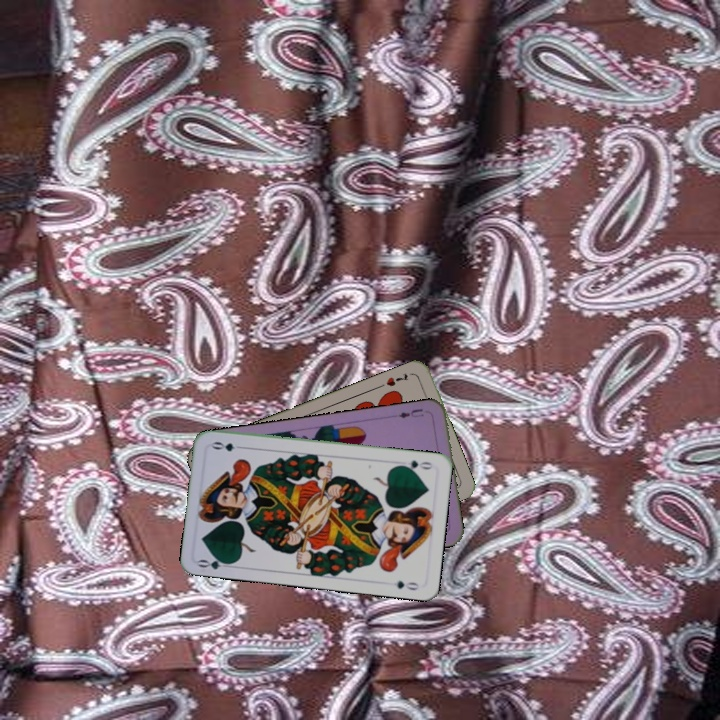EU: (394, 405, 426, 421)
GO: (194, 552, 236, 572), (395, 456, 435, 473)
H7: (382, 369, 411, 389)
